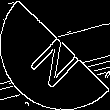N_NE: (24, 23, 86, 87)
